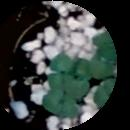Basil: (40, 73, 88, 99), (40, 93, 79, 119), (90, 44, 120, 77), (51, 53, 91, 77), (92, 78, 114, 110)
